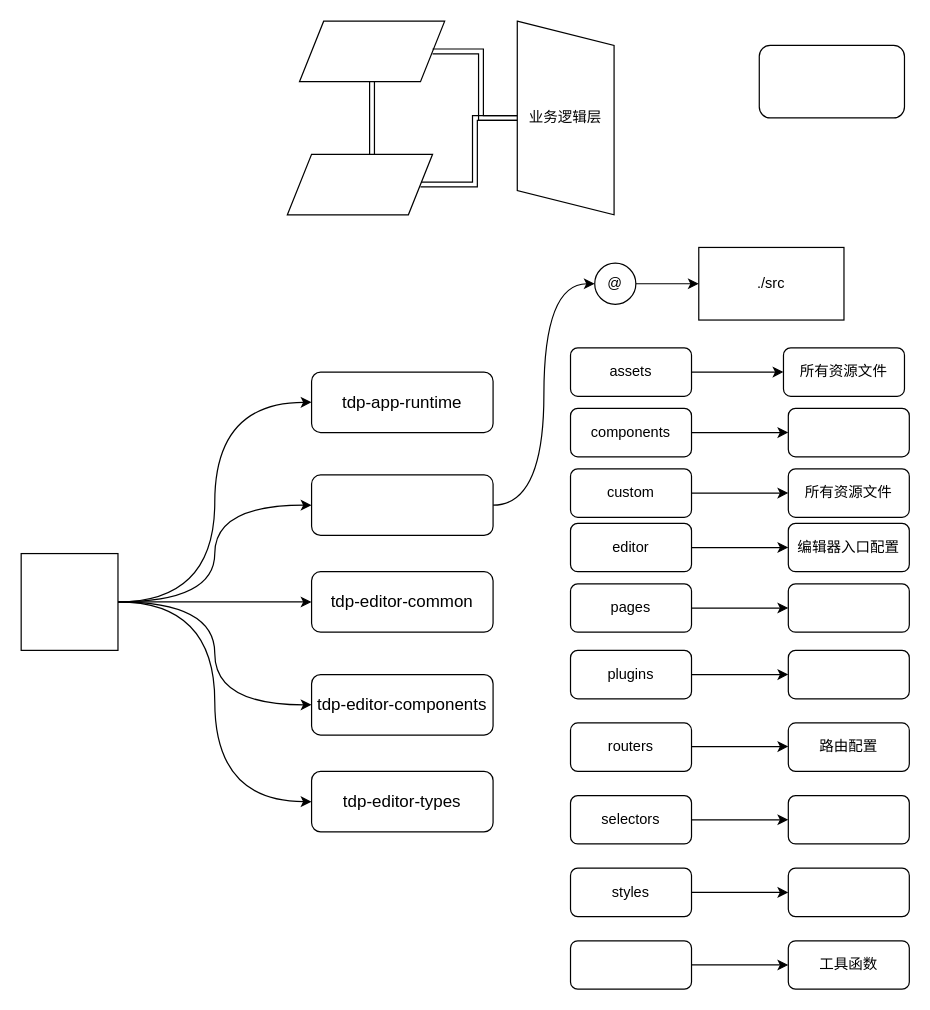
Some shapes in this 930 by 1010 pixel diagram are drawn without their labels. The shapes that lost their labels are listed below. From the top down, each one's centre as x and y in pixels, then its label:
At point (371, 51): "视图层".
At point (831, 81): "vite构建工具".
At point (359, 184): "数据层".
At point (848, 432): "复用逻辑".
At point (401, 504): "tdp-editor".
At point (69, 601): "packages".
At point (848, 607): "编辑器页面".
At point (848, 674): "依赖的插件".
At point (848, 819): "所有选择器".
At point (848, 892): "样式".
At point (630, 964): "utils".
